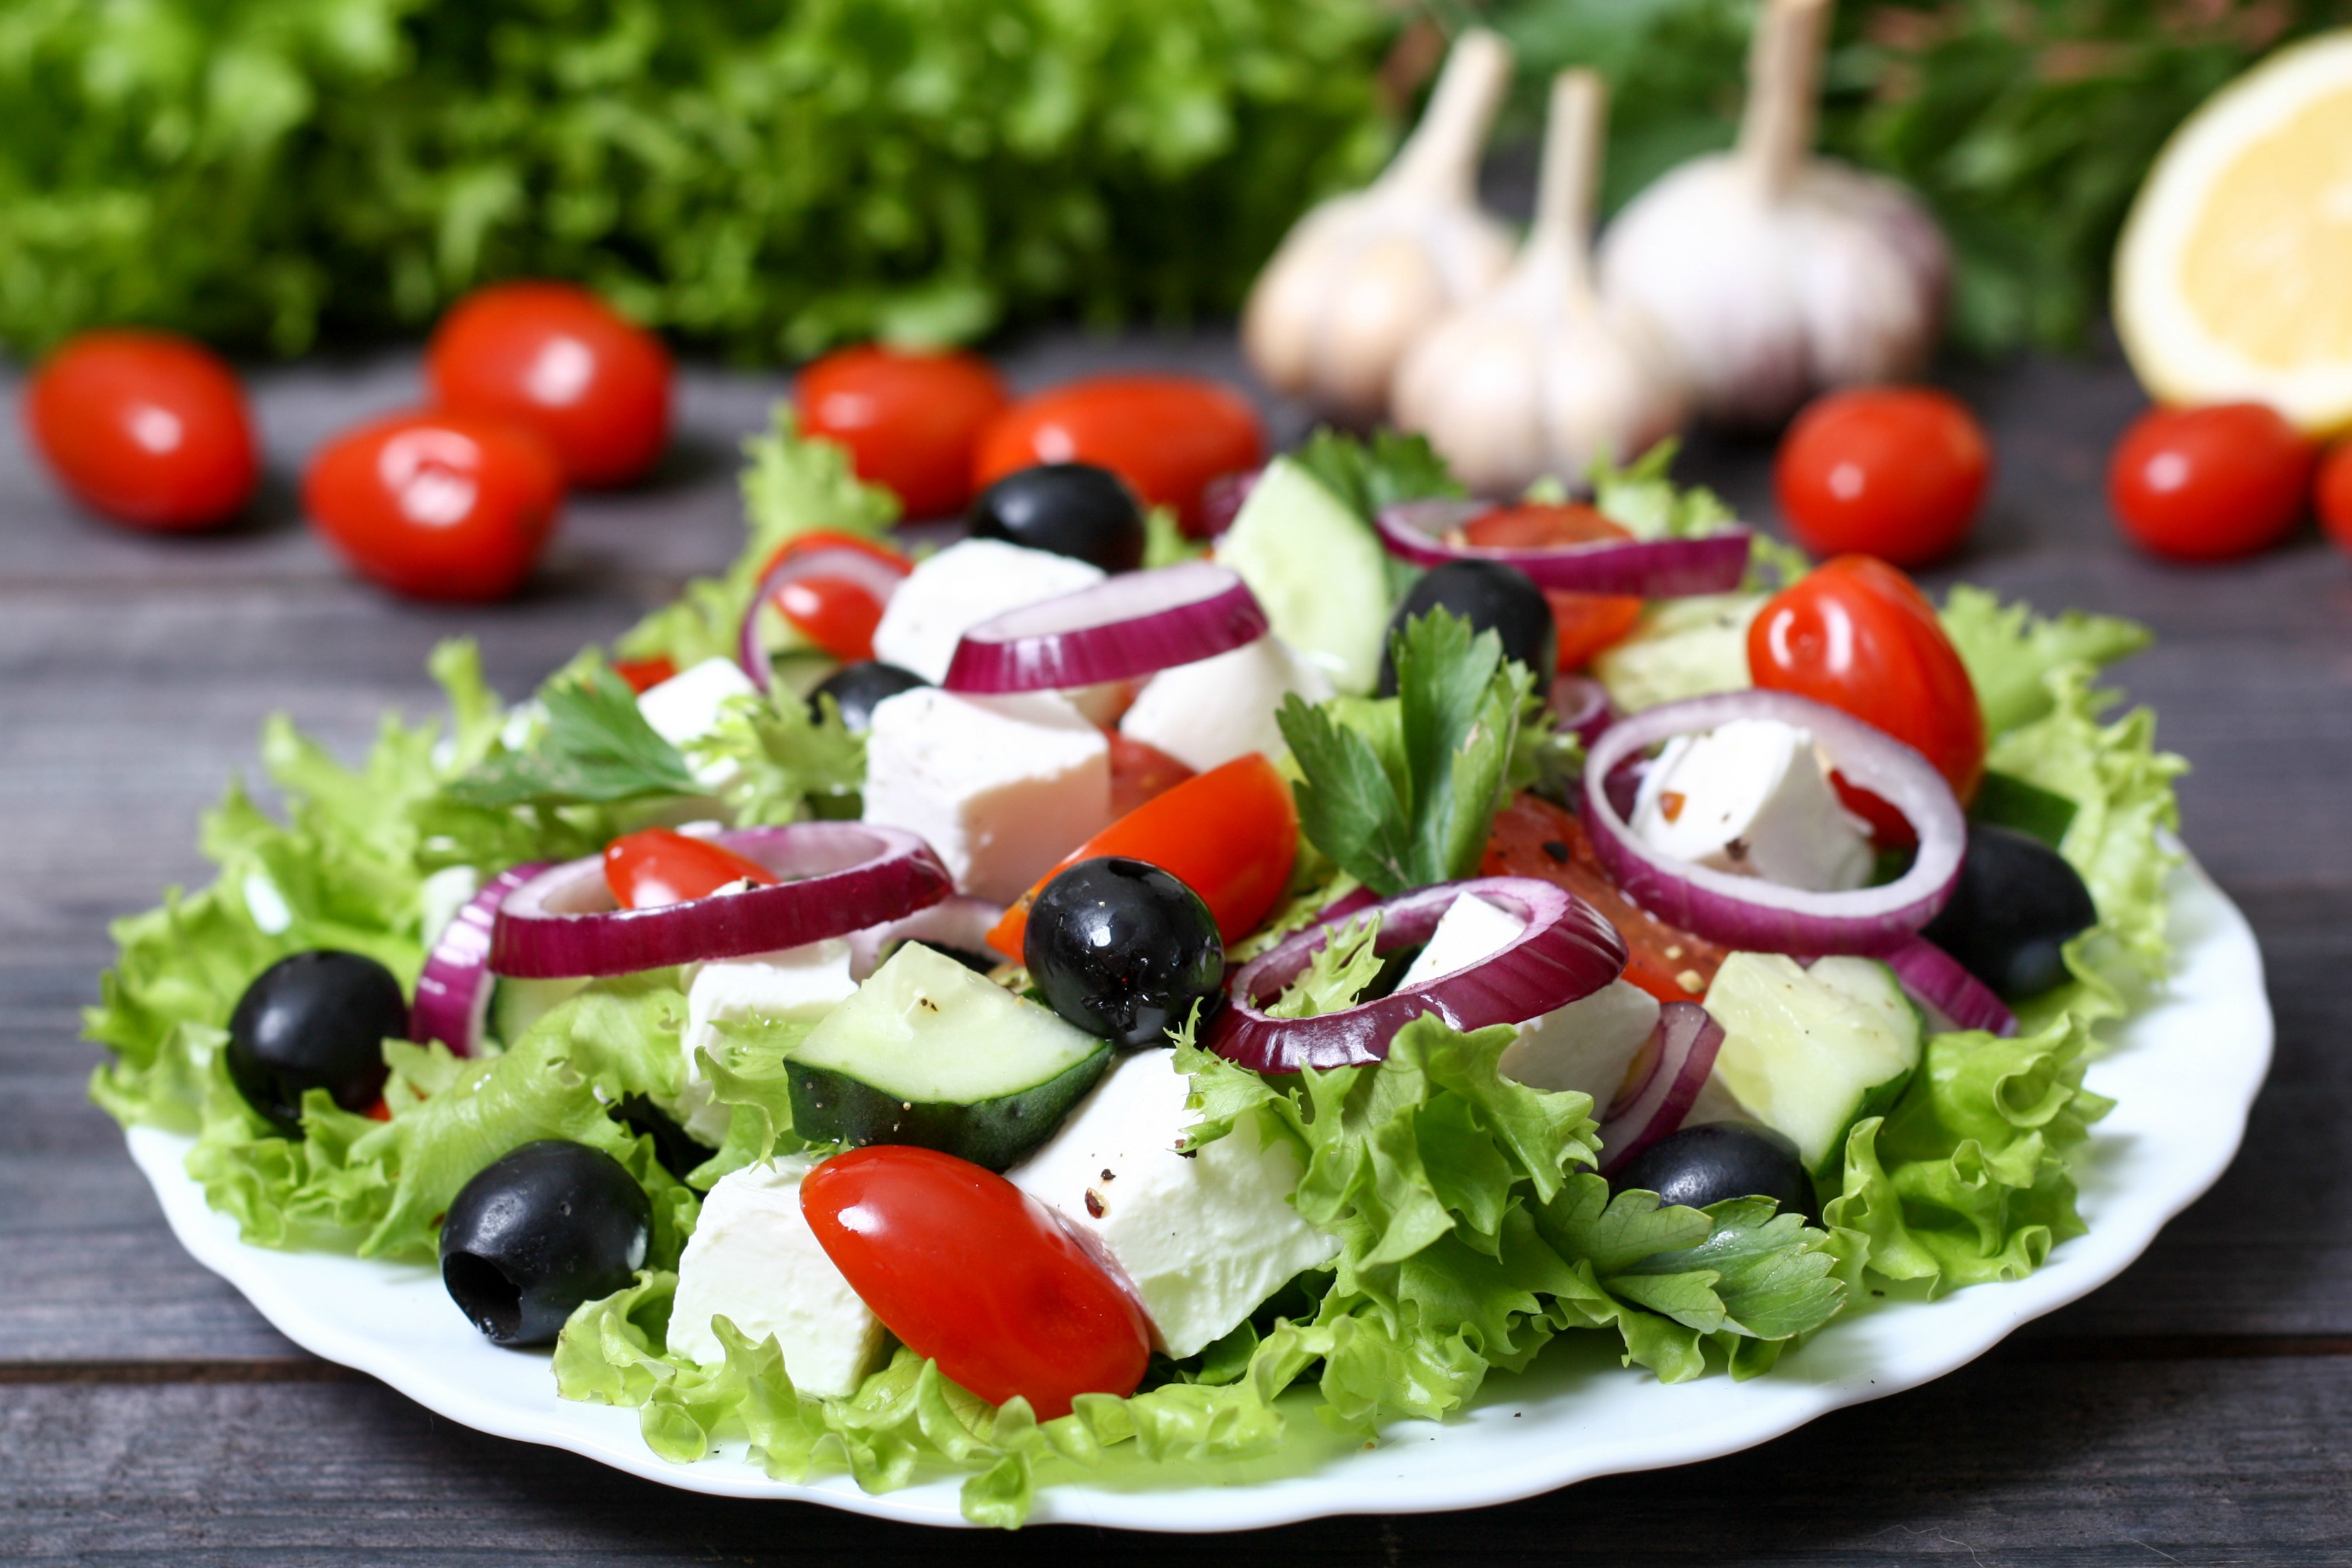chopped lettuce: (129, 583, 908, 1041), (1239, 955, 1711, 1440)
